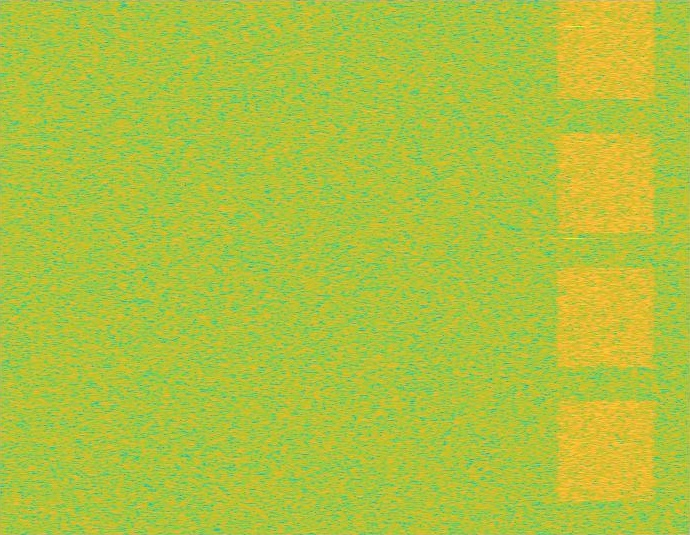5G: (554, 0, 658, 534)
Radar: (567, 0, 581, 534)
